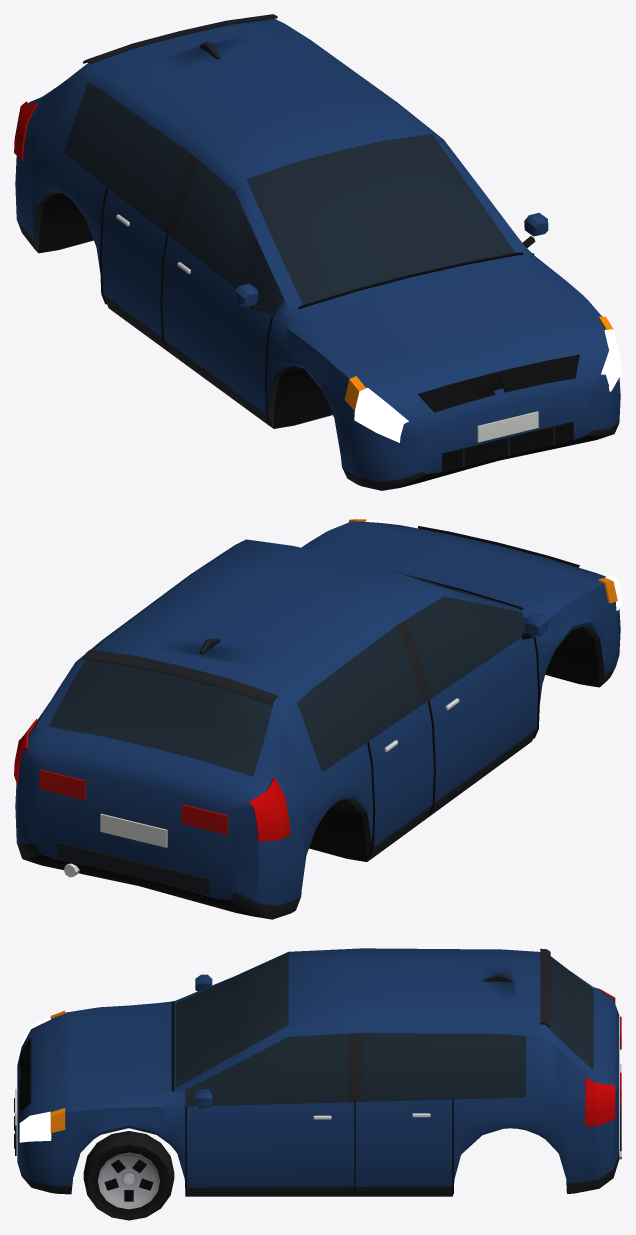
The model's file is hatchback.glb.
3 views of the same model, one above another, from view 1: azimuth 30°, elevation 25°; view 2: azimuth 150°, elevation 25°; view 3: azimuth 270°, elevation 25° (orthographic). The views are drawn at different scales.
Visible parts, largest first — view 1: body, headlights, taillights; view 2: body, taillights, indicator_rr, indicator_rl; view 3: body, wheel, taillights, headlights.
Part boxes in pixels (x1=…): body: x1=15, y1=14, x2=620, y2=490; headlights: x1=354, y1=329, x2=621, y2=442; taillights: x1=14, y1=101, x2=37, y2=160; body: x1=15, y1=521, x2=620, y2=919; taillights: x1=14, y1=719, x2=290, y2=841; indicator_rr: x1=181, y1=804, x2=228, y2=834; indicator_rl: x1=39, y1=769, x2=85, y2=800; body: x1=14, y1=948, x2=621, y2=1196; wheel: x1=83, y1=1131, x2=174, y2=1220; taillights: x1=585, y1=987, x2=615, y2=1126; headlights: x1=19, y1=1016, x2=51, y2=1142.
Bounding box in the file's own units: 2.04 × 1.55 × 4.3.
